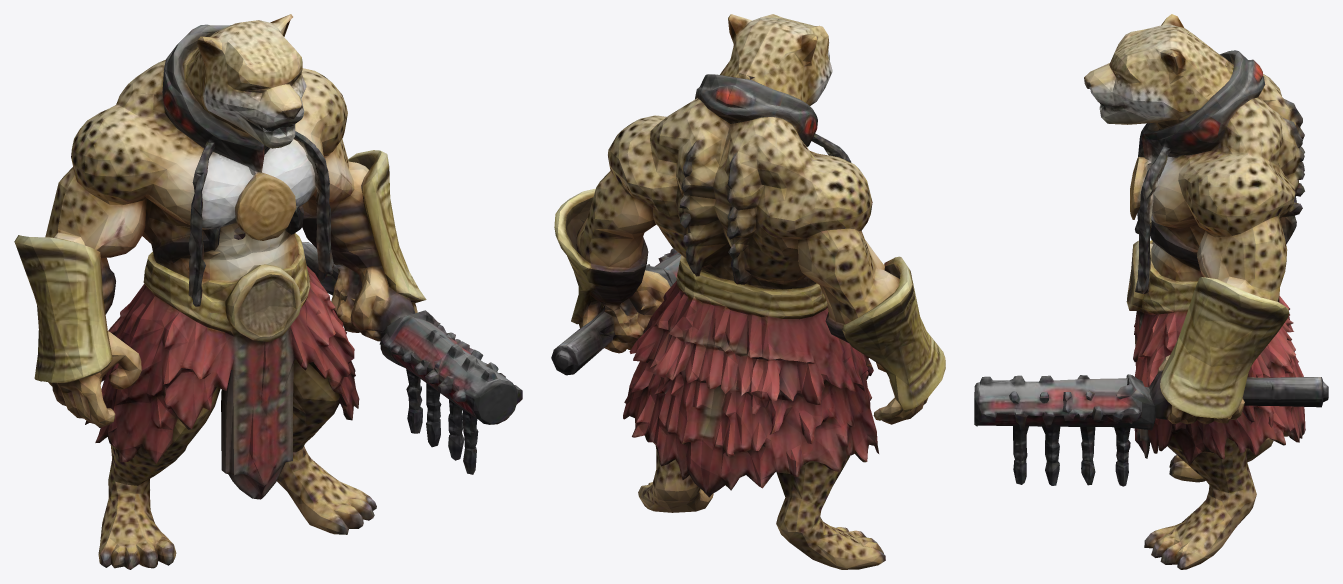
Rendered from grandChampion.glb.
3 views of the same model, side by side, from view 1: azimuth 30°, elevation 25°; view 2: azimuth 150°, elevation 25°; view 3: azimuth 270°, elevation 25° (orthographic). The views are drawn at different scales.
Parts seen in each view (by area): view 1: world; view 2: world; view 3: world.
Boxes of the visible parts, box(x1,y1,x2,y2) form: world: box(14, 14, 522, 569); world: box(551, 14, 945, 569); world: box(974, 14, 1328, 569).
Bounding box in the file's own units: 0.7422 × 0.9992 × 0.6682.
Materials: 1 (1 with a texture image).
